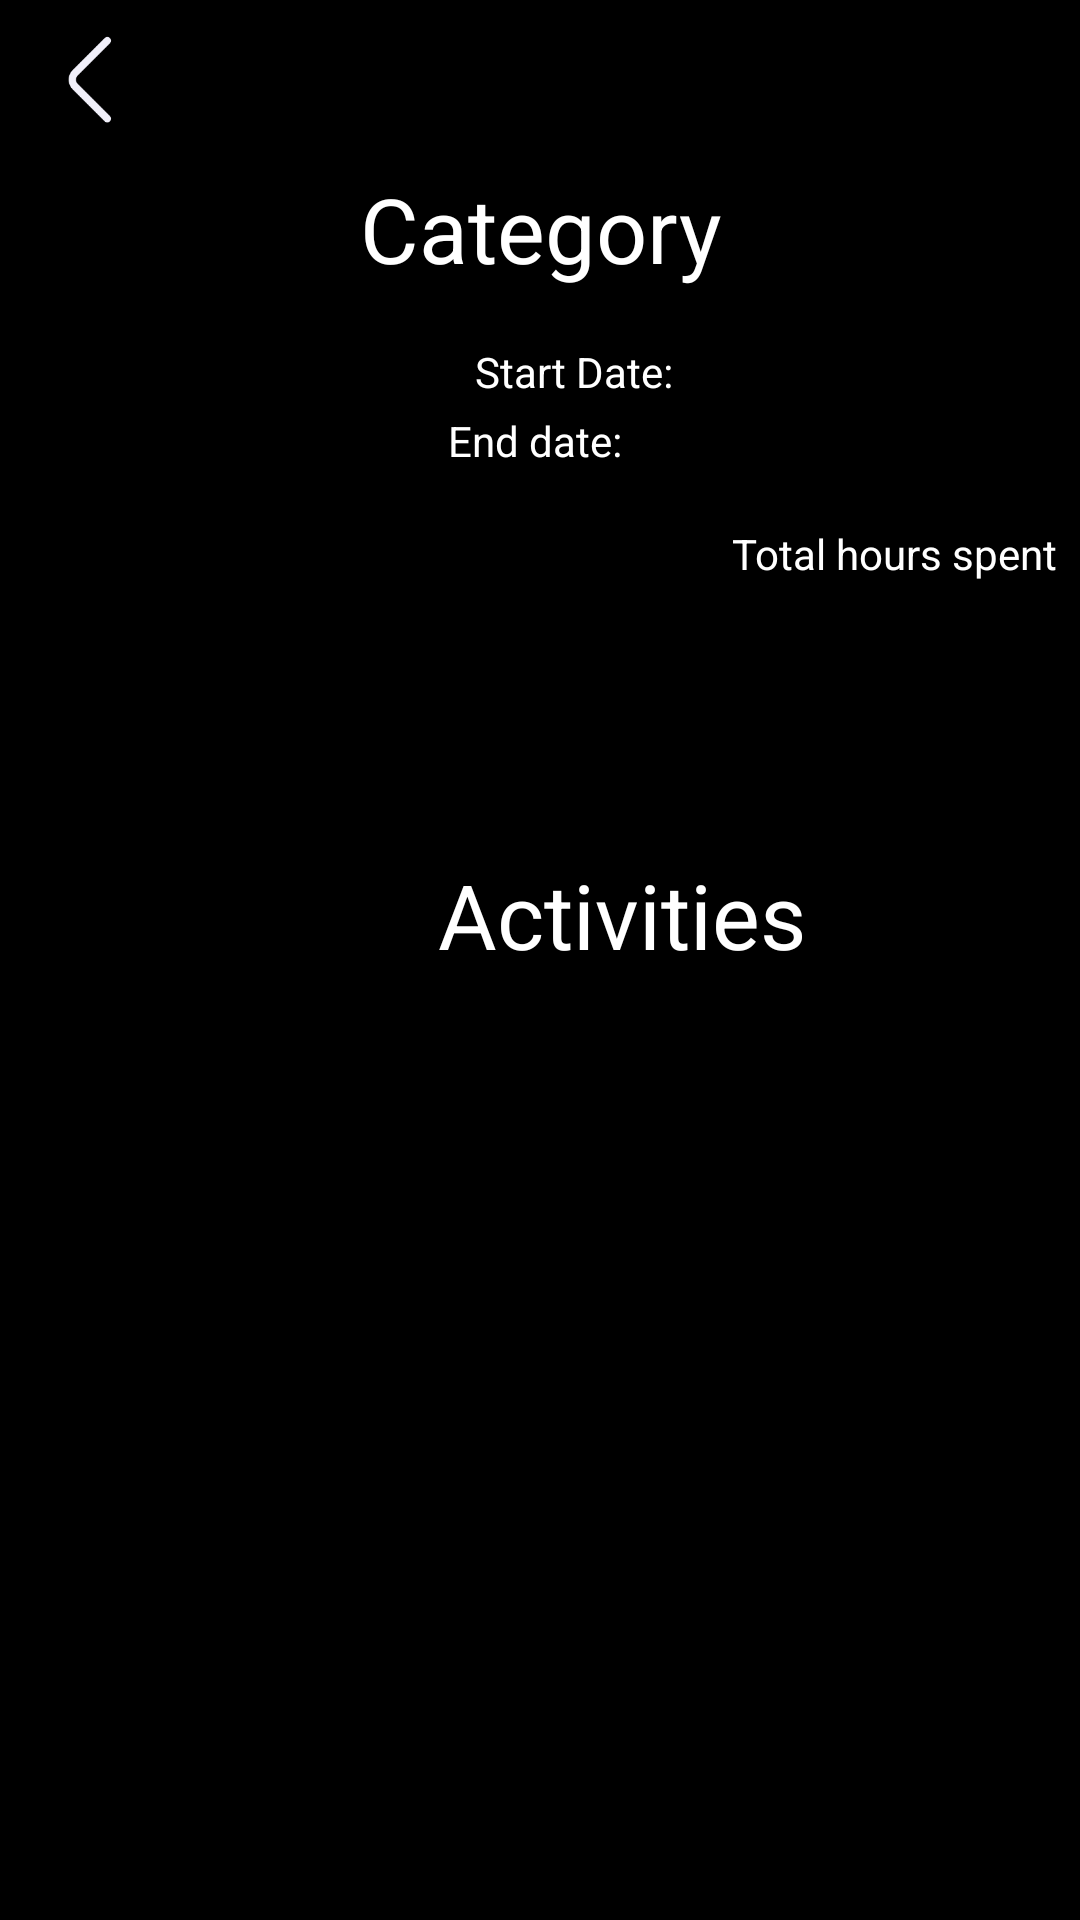

Screen size 1080 × 1920. Icon name, then its box in pixels as (x1, y1, x2, y2):
back: (68, 36, 111, 123)
